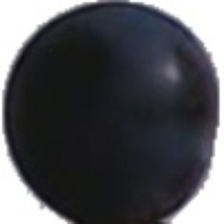grapes: (42, 15, 191, 169)
